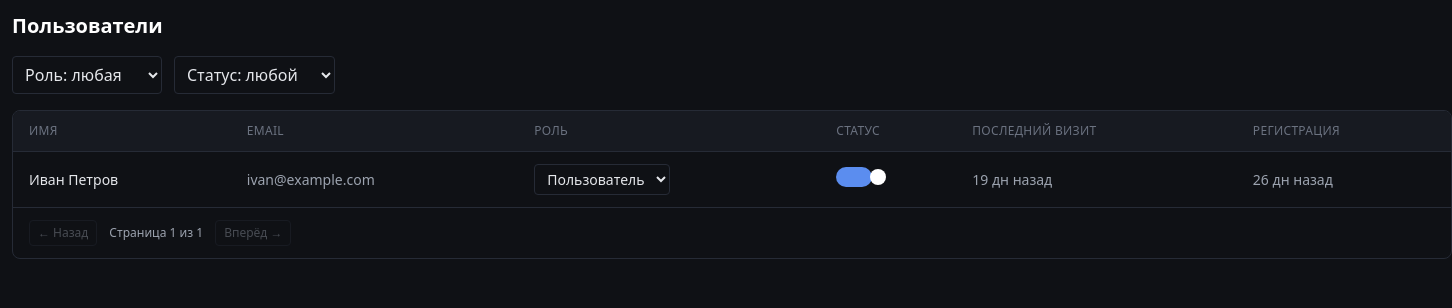
Test case: UsersPage › should_reset_error_banner_when_role_filter_changed
Expected: the text "Иван Петров" is shown, left=13, top=152, right=231, bottom=207
Click the switch. click: coordinates (854, 177)
box: left=836, top=167, right=872, bottom=187
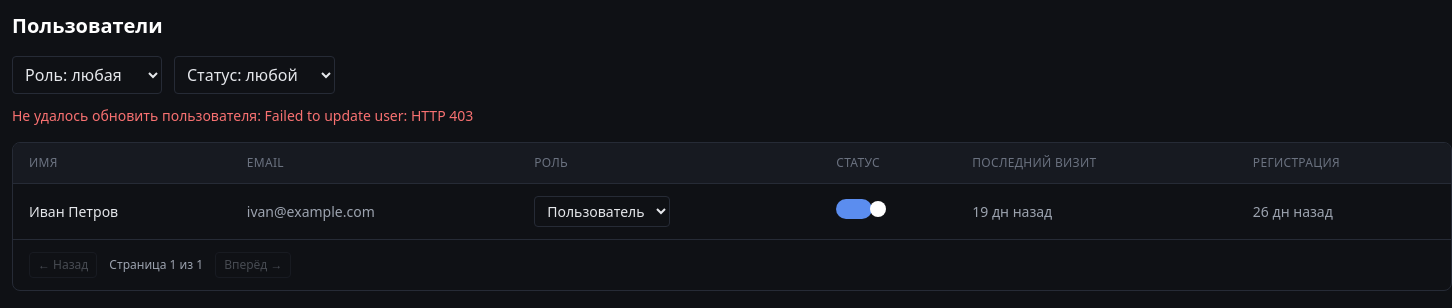
Now the text "Не удалось обновить пользователя" is shown, box left=12, top=106, right=264, bottom=125
Select "Админ" in the 1st dropdown showing "Роль: любая". click: coordinates (87, 75)
box: left=12, top=56, right=162, bottom=94
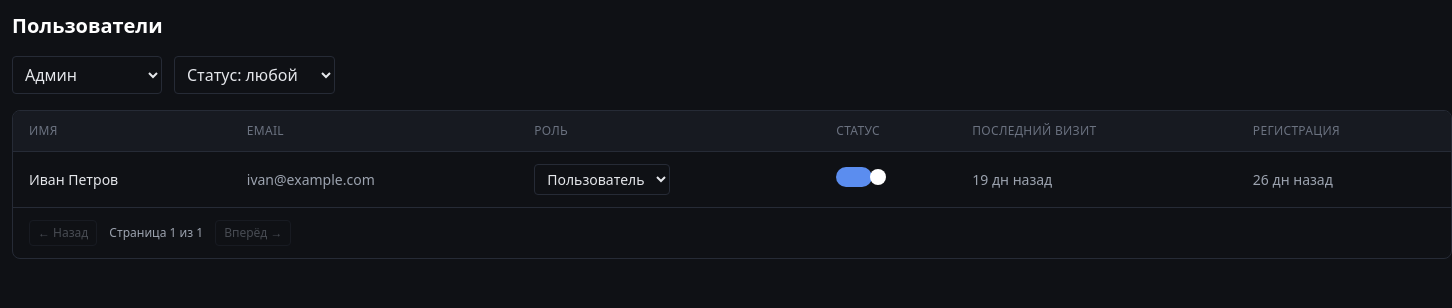
Now the text "Не удалось обновить пользователя" is gone
